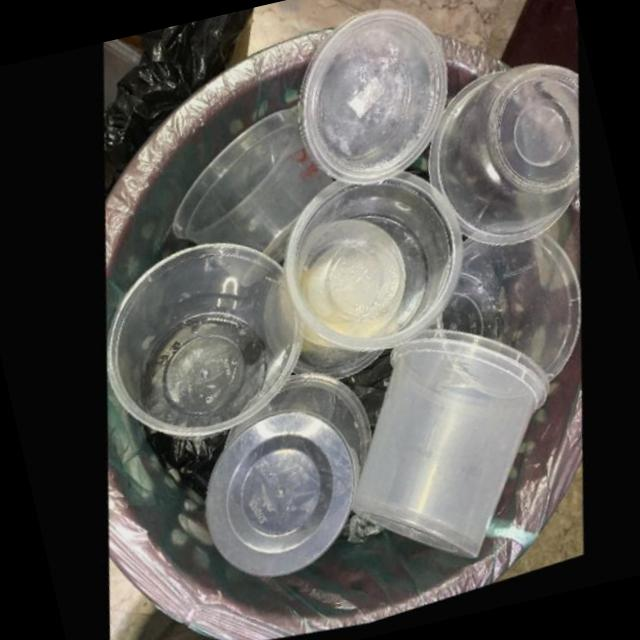hop_nhua: (349, 337, 548, 567), (101, 248, 299, 439), (201, 379, 369, 584), (277, 183, 459, 359), (422, 75, 576, 256), (292, 19, 443, 192), (164, 113, 328, 271), (433, 243, 579, 391), (201, 257, 264, 292)
